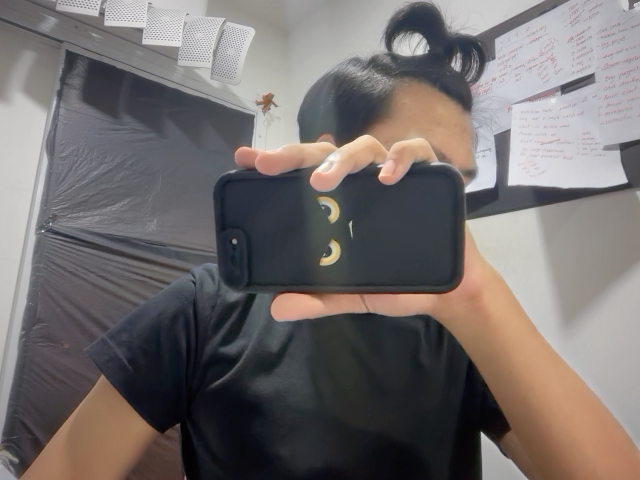phone: (196, 166, 487, 301)
